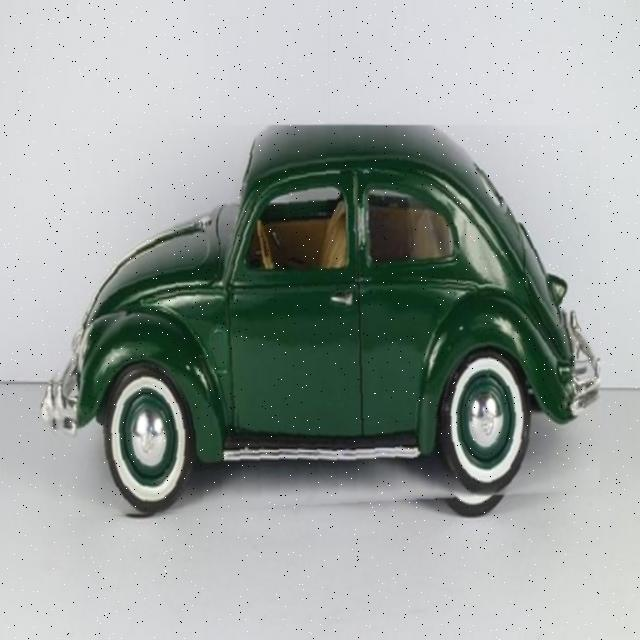car: (45, 126, 601, 519)
